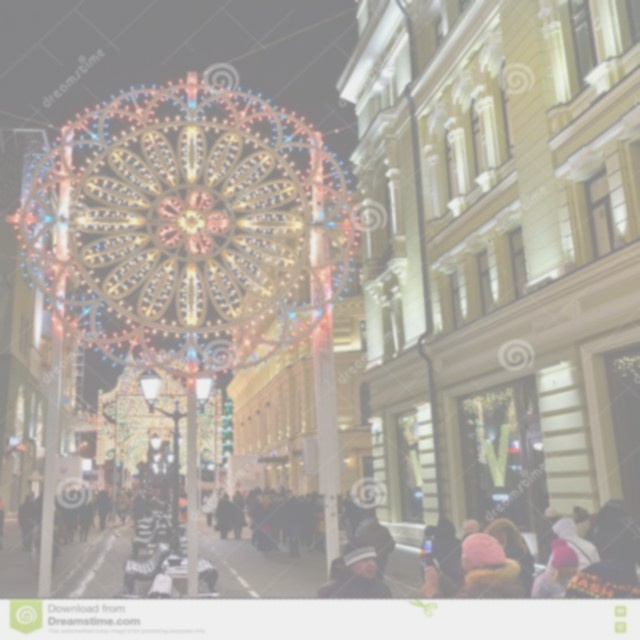pessoa: (478, 515, 538, 640), (418, 532, 526, 600), (316, 536, 394, 599), (592, 497, 640, 599), (580, 511, 616, 612), (352, 510, 398, 582), (530, 537, 580, 598), (551, 517, 601, 573), (430, 516, 462, 588), (535, 506, 564, 570), (252, 494, 277, 558), (278, 491, 300, 547), (16, 494, 36, 554), (417, 524, 438, 581), (37, 525, 60, 576), (300, 492, 318, 555), (212, 492, 235, 540), (280, 489, 298, 546), (60, 491, 78, 546), (76, 491, 94, 543), (94, 488, 114, 532), (248, 493, 264, 548), (342, 490, 358, 540), (232, 493, 248, 540), (571, 504, 591, 540), (314, 498, 326, 554), (201, 490, 217, 528), (130, 491, 146, 528), (460, 518, 482, 542), (252, 483, 286, 498), (116, 490, 130, 526), (34, 487, 61, 502), (107, 489, 117, 524), (231, 489, 246, 512), (143, 490, 154, 518), (178, 494, 188, 524), (298, 490, 323, 502), (0, 494, 5, 552), (124, 486, 138, 504), (244, 489, 253, 510), (216, 486, 228, 499), (168, 487, 175, 507), (175, 486, 189, 496), (151, 488, 160, 500), (92, 487, 98, 495)
